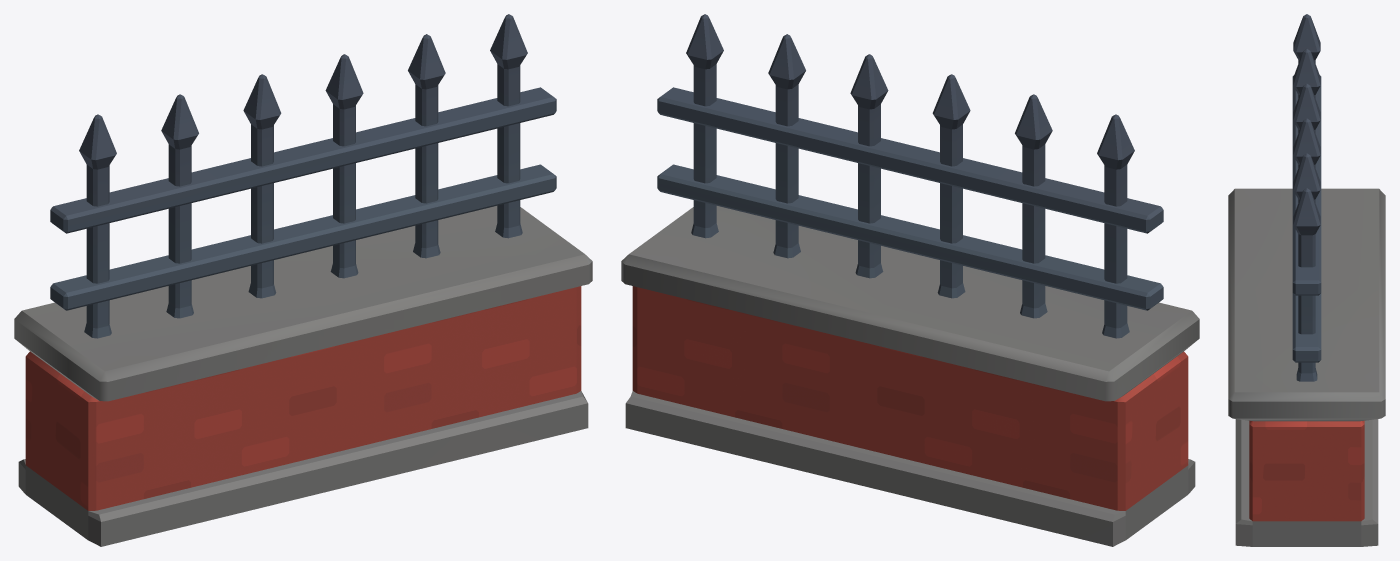
File: BrickWall_4_1.glb
3 renders of one model, left to right at view 1: azimuth 30°, elevation 25°; view 2: azimuth 150°, elevation 25°; view 3: azimuth 270°, elevation 25°, orthographic. The views are drawn at different scales.
Parts seen in each view (by area): view 1: BrickWall_4_1; view 2: BrickWall_4_1; view 3: BrickWall_4_1.
Boxes of the visible parts, <box> form: BrickWall_4_1: <box>14,14,592,546</box>; BrickWall_4_1: <box>621,14,1199,546</box>; BrickWall_4_1: <box>1228,14,1385,546</box>.
Size of the model in its own units: 2 by 1.52 by 0.6357.
4 materials, 4 textured.
